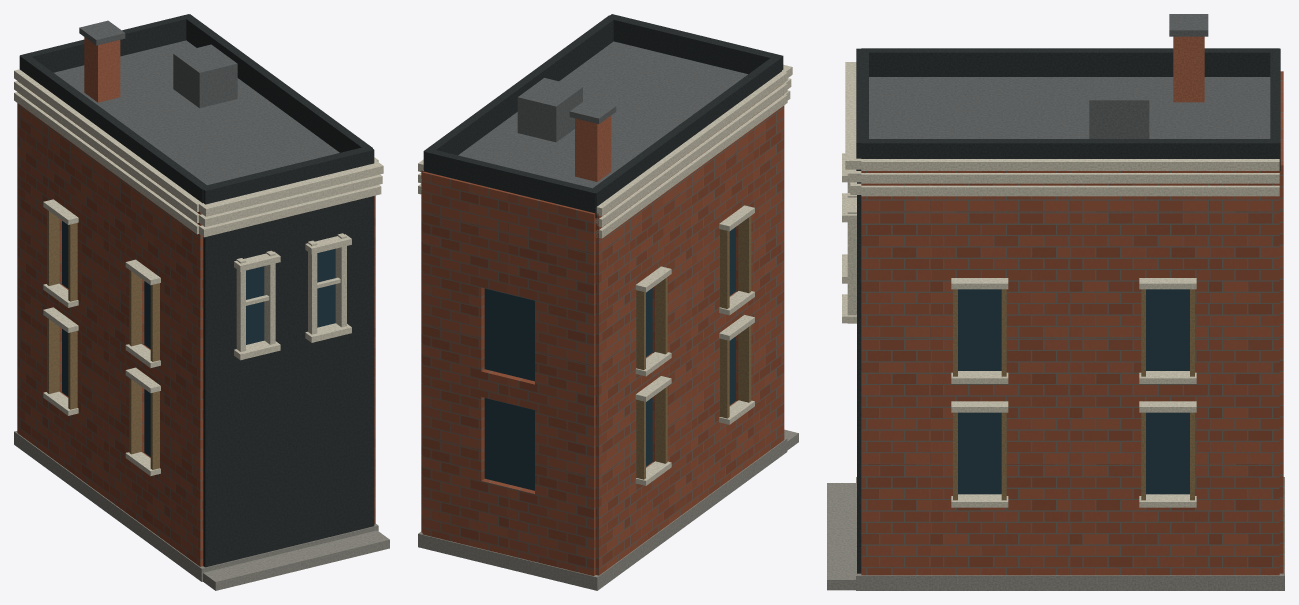
File: WHSE14_lod2.glb
3 renders of one model, left to right at view 1: azimuth 30°, elevation 25°; view 2: azimuth 150°, elevation 25°; view 3: azimuth 270°, elevation 25°, orthographic. The views are drawn at different scales.
Parts seen in each view (by area): view 1: WHSE14_LOD2; view 2: WHSE14_LOD2; view 3: WHSE14_LOD2.
Part boxes in pixels (x1,y1,x2,y2): WHSE14_LOD2: (14,14,389,590); WHSE14_LOD2: (418,14,798,590); WHSE14_LOD2: (827,14,1284,590).
Bounding box in the file's own units: 3.71 × 7.85 × 6.57.
9 materials, 7 textured.
